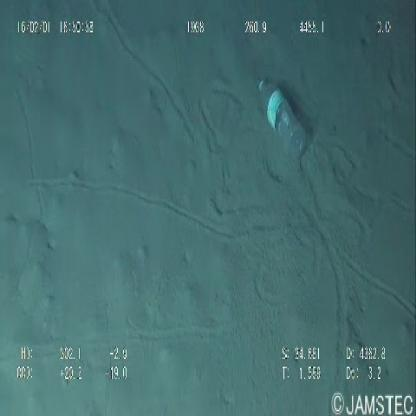Rác: (252, 68, 321, 168)
